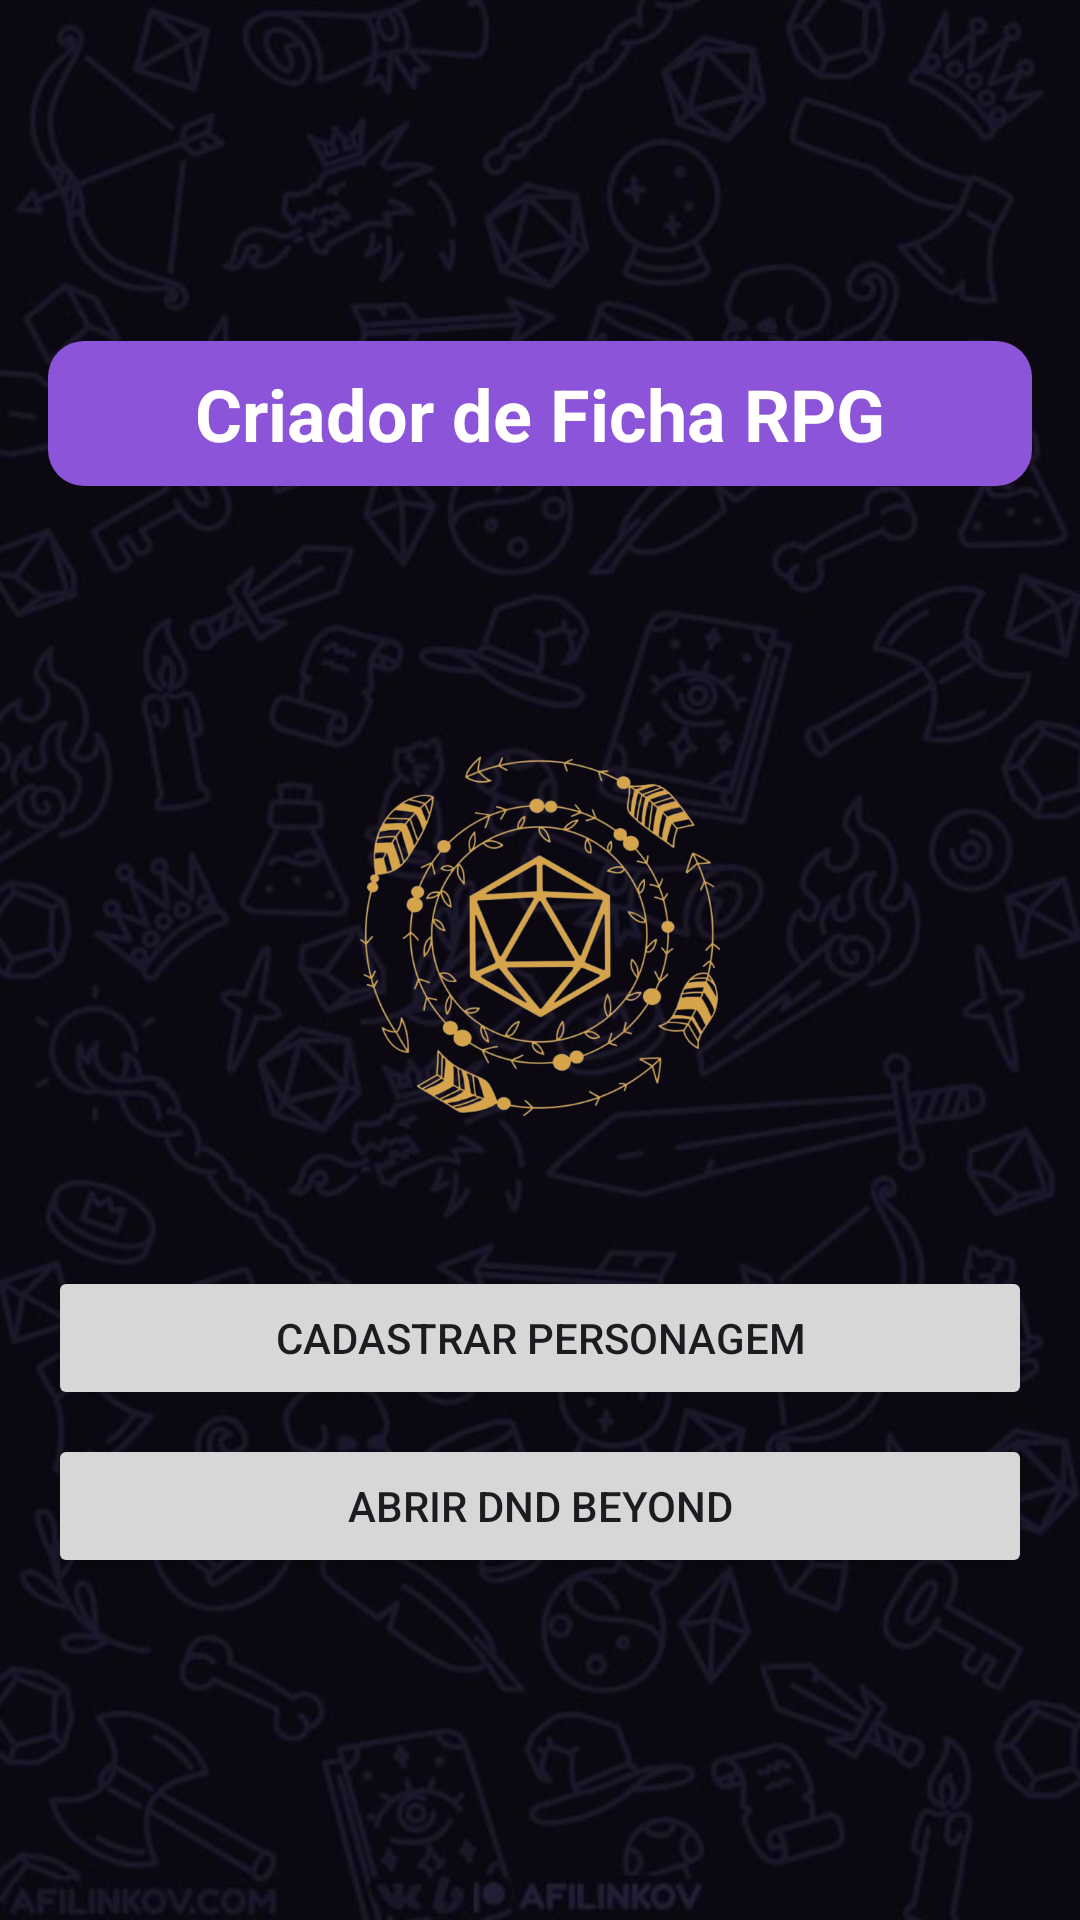

Screen size 1080 × 1920. Icon name, then its center in pixels as point (x, y):
imagemdado: point (540, 936)
